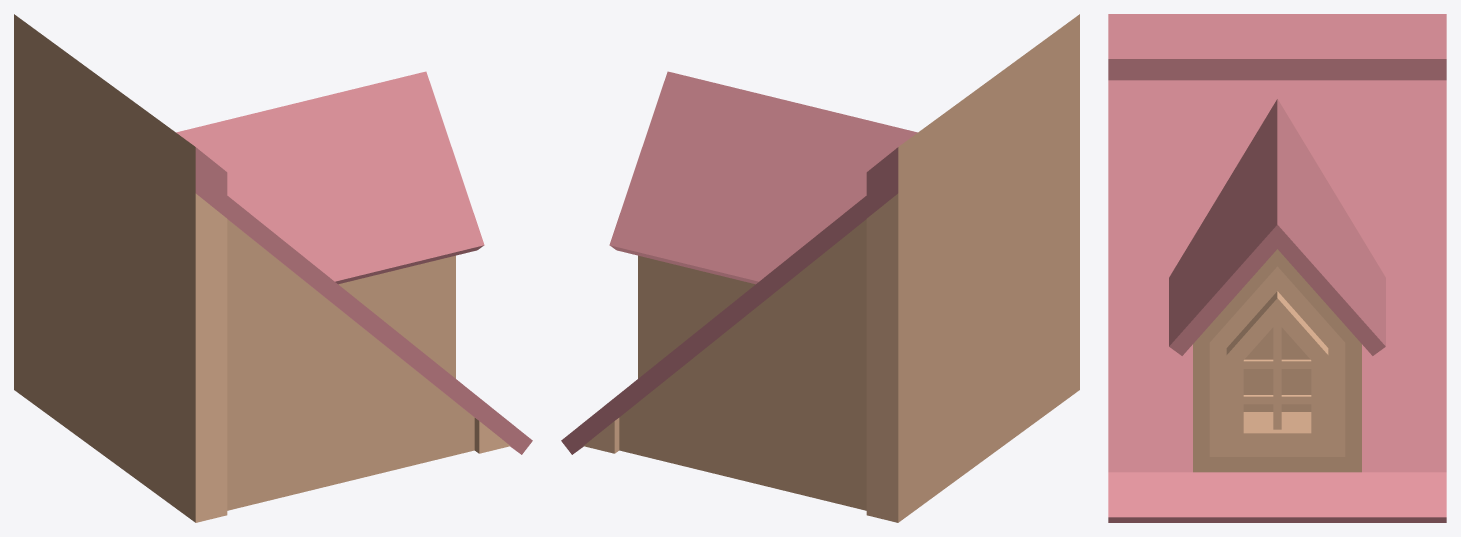
The model's file is roofHighWindow.glb.
3 views of the same model, side by side, from view 1: azimuth 30°, elevation 25°; view 2: azimuth 150°, elevation 25°; view 3: azimuth 270°, elevation 25° (orthographic). The views are drawn at different scales.
Visible parts, largest first — view 1: roofHighWindow; view 2: roofHighWindow; view 3: roofHighWindow.
Boxes of the visible parts, x1=… form: roofHighWindow: x1=14, y1=14, x2=532, y2=522; roofHighWindow: x1=561, y1=14, x2=1079, y2=522; roofHighWindow: x1=1108, y1=14, x2=1446, y2=522.
Size of the model in its own units: 1.07 by 1.18 by 1.
